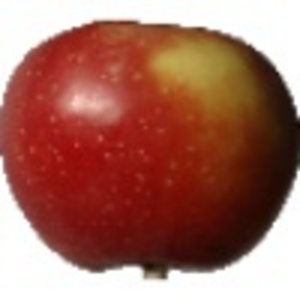maçã braeburn: (1, 16, 299, 273)
